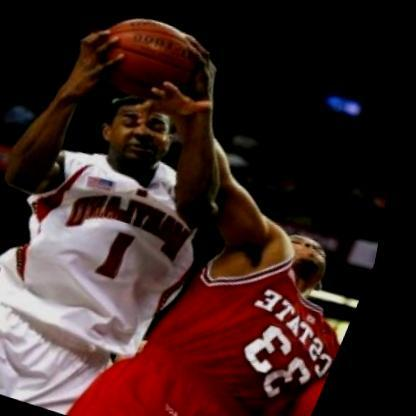basketball: (83, 6, 219, 111)
